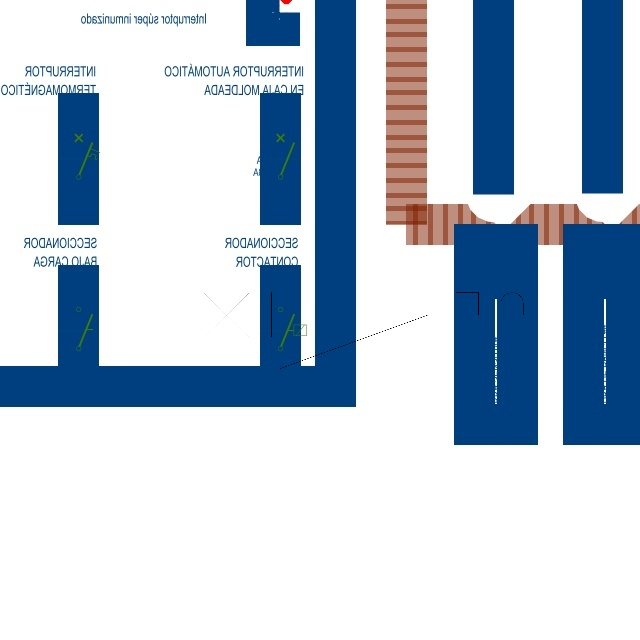interruptor_termomagnetico: (172, 283, 561, 378)
